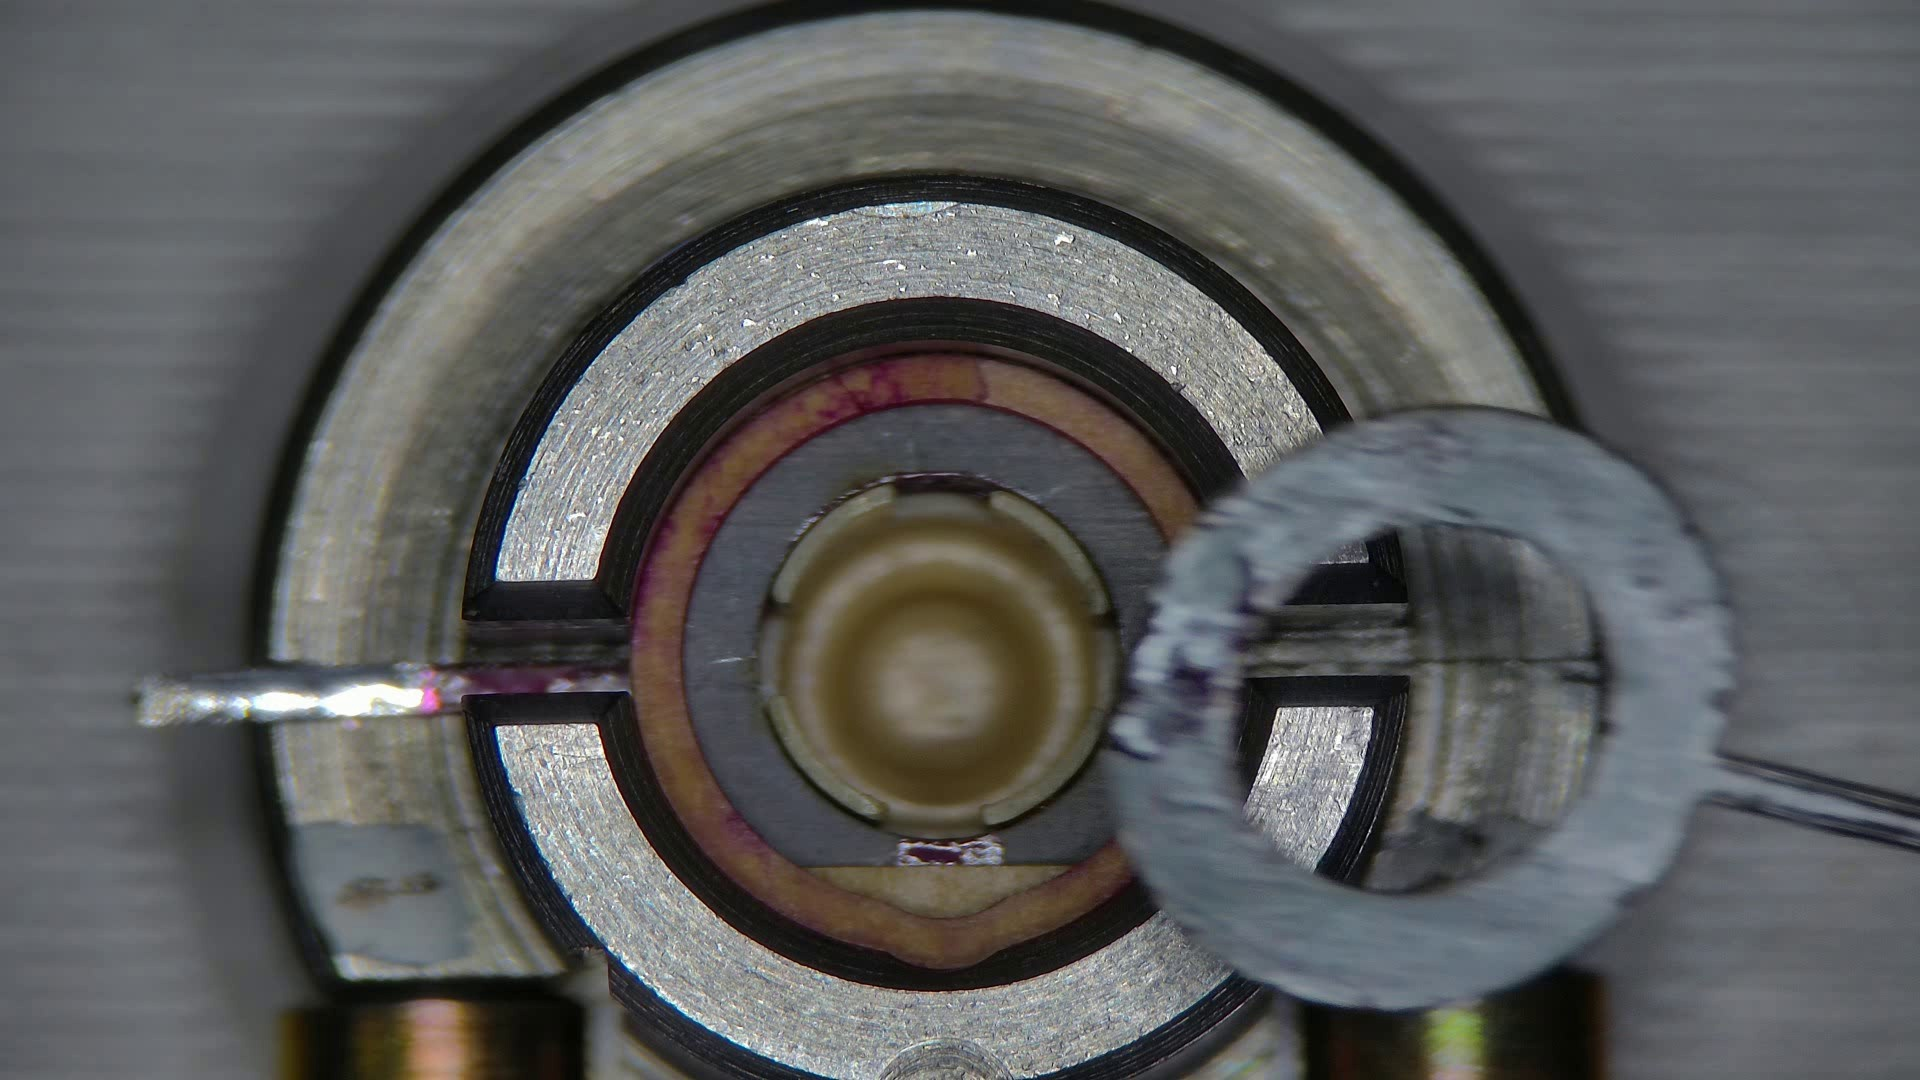GreyOring: (632, 351, 1200, 957), (1156, 891, 1163, 895)
YellowOring: (1105, 404, 1734, 1006), (684, 405, 1167, 865), (969, 700, 1135, 865)
redOring: (811, 862, 1068, 915)
